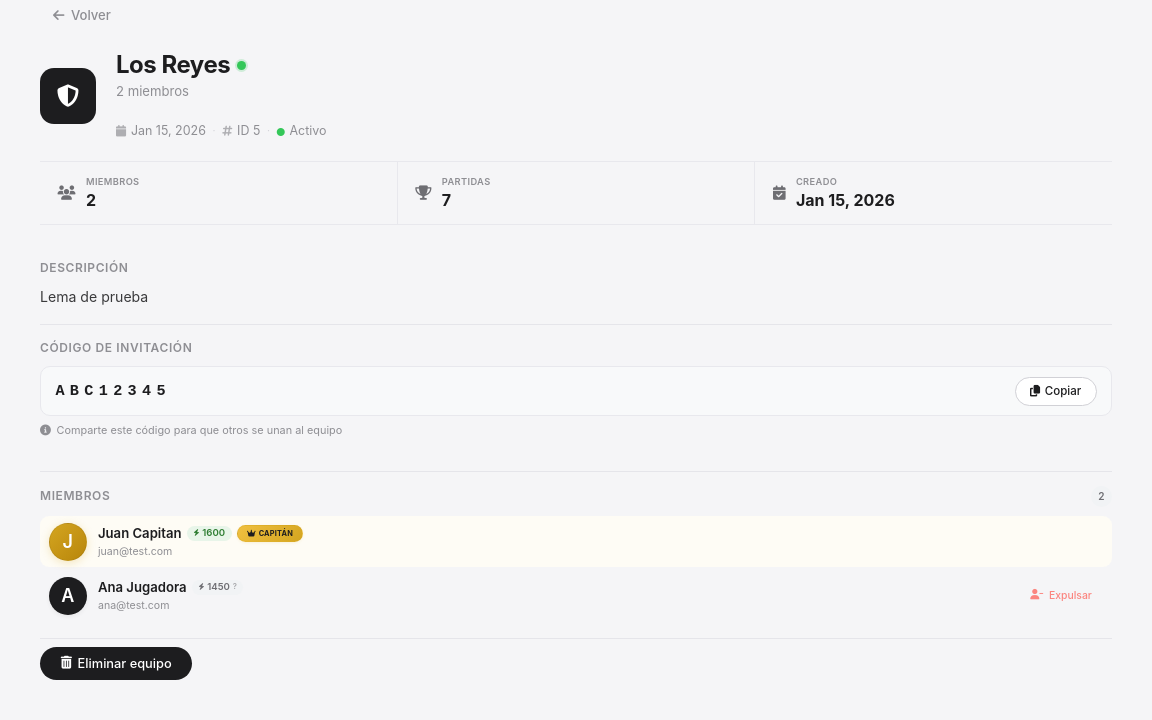
Scenario: TeamDetail › copia el codigo de invitacion
This screenshot has width=1152, height=720.
Expected: the heading "Los Reyes" is shown, [116,50,246,79]
Click the button with class "td-copy-btn": {"x": 1056, "y": 391} [1014,377,1097,406]
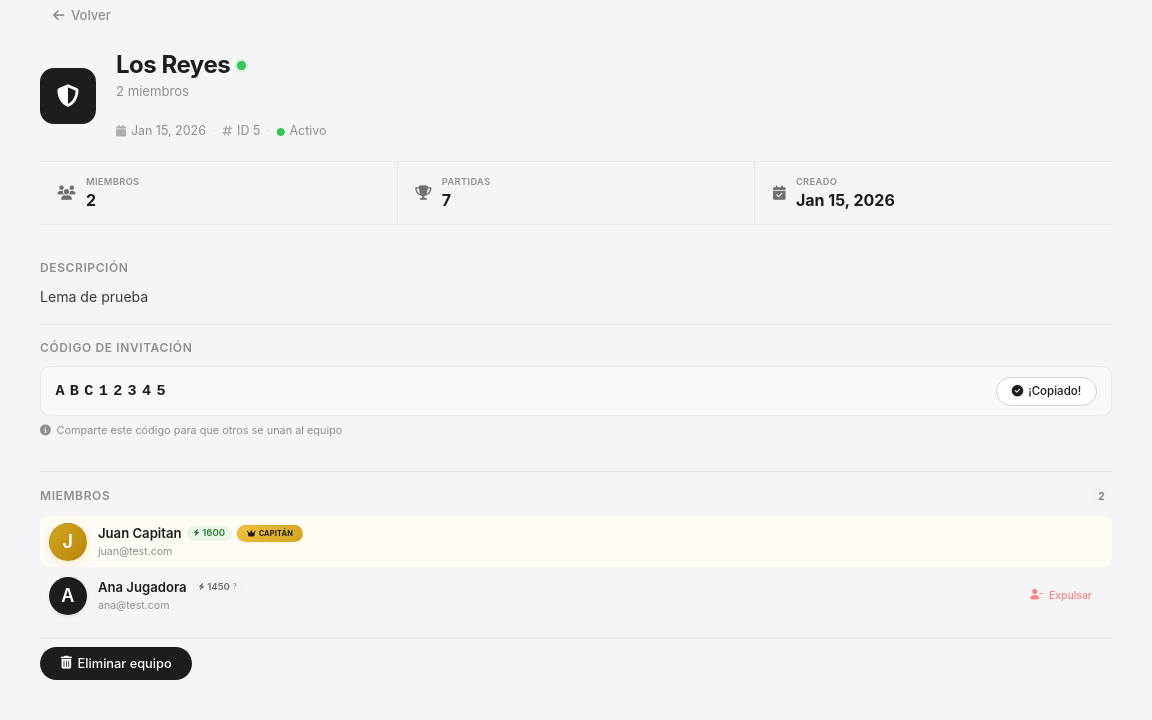
Expected: the button "¡Copiado!" is shown, [996,377,1097,406]
